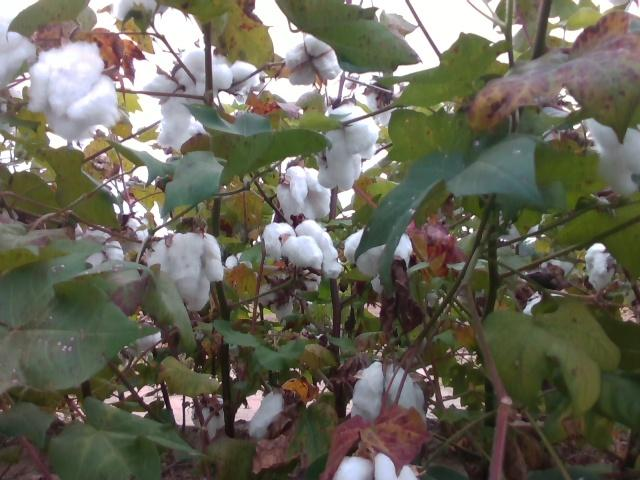cotton_ready: (28, 42, 120, 141), (146, 232, 226, 312), (321, 105, 379, 186), (263, 220, 344, 275), (350, 365, 426, 422), (586, 117, 640, 196), (144, 68, 196, 149), (345, 227, 414, 277), (276, 167, 332, 221), (285, 38, 340, 88), (180, 51, 232, 101), (332, 452, 422, 480), (0, 32, 36, 88), (79, 230, 122, 269), (248, 391, 285, 435), (190, 397, 227, 440), (121, 317, 164, 353), (586, 242, 616, 290), (257, 285, 294, 321), (366, 88, 401, 125), (540, 106, 572, 145), (0, 88, 24, 135), (233, 60, 260, 95), (115, 0, 157, 21), (122, 216, 142, 257)
